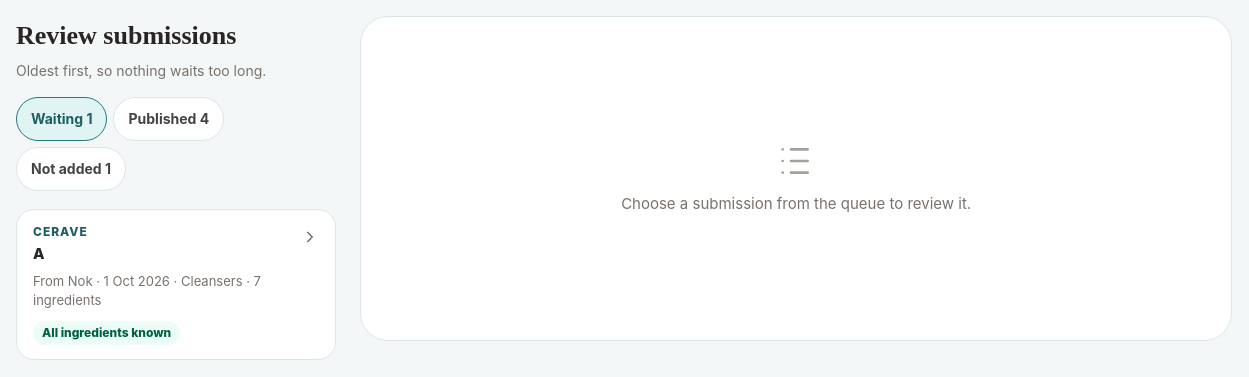
Test: src/views/AdminSubmissionsView.vue › the queue › says a quiet line, not the all-clear, for an empty Published or Not added tab
This screenshot has width=1249, height=377.
Step 1. Click the tab "Published 4" → (169, 119), box [114,97,224,141]
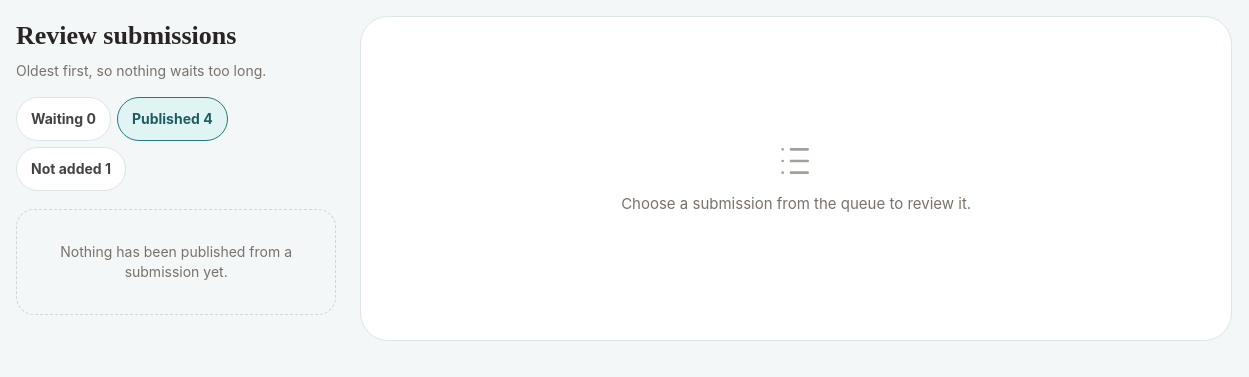
Now the text with class "empty-tab" reads "Nothing has been published from a submission yet.", box [60,243,292,280]
